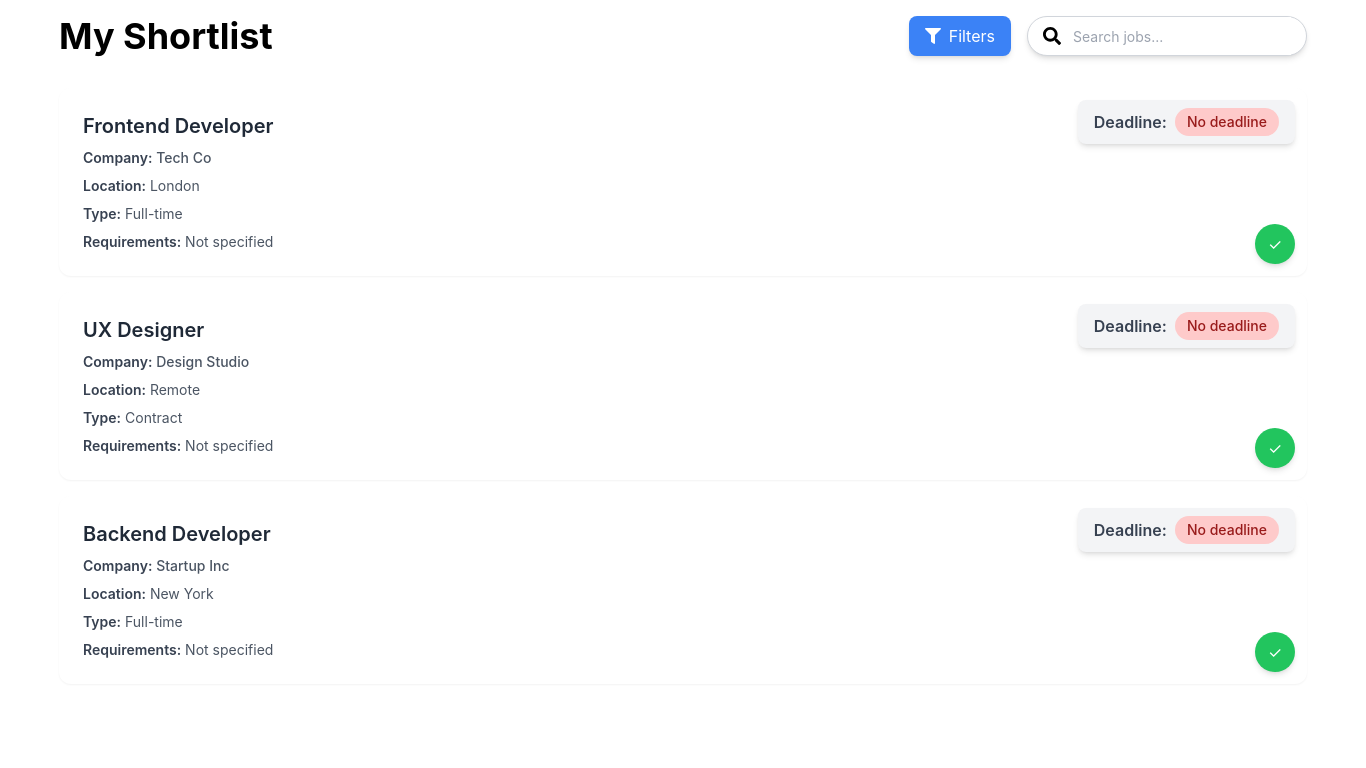
Test case: ApplicantShortlist Component › opens filter modal when filter button is clicked
Check: the heading "Frontend Developer" is shown, box [83,114,273,138]
Click the button "Filters". click: (960, 36)
box: [909,16,1011,56]
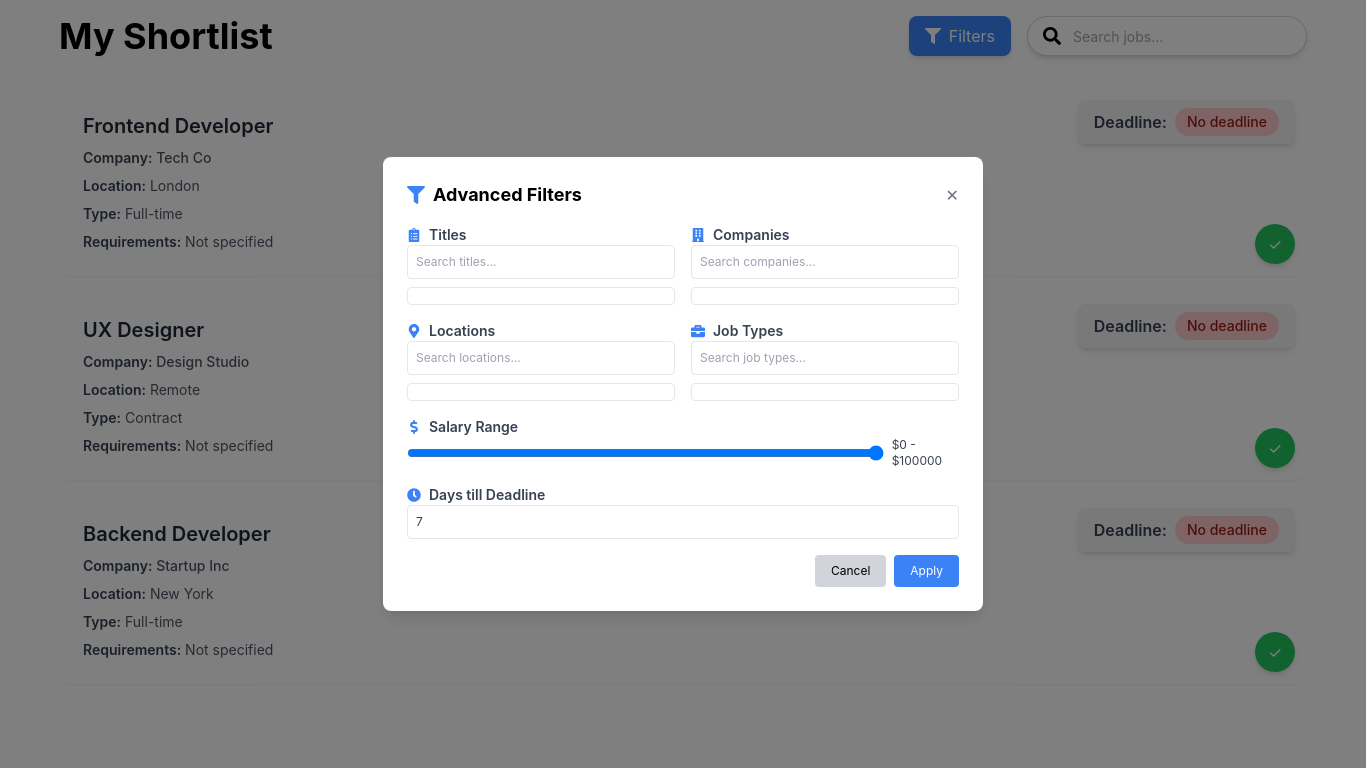
Check: the heading "Advanced Filters" is shown, box [407,181,582,209]
